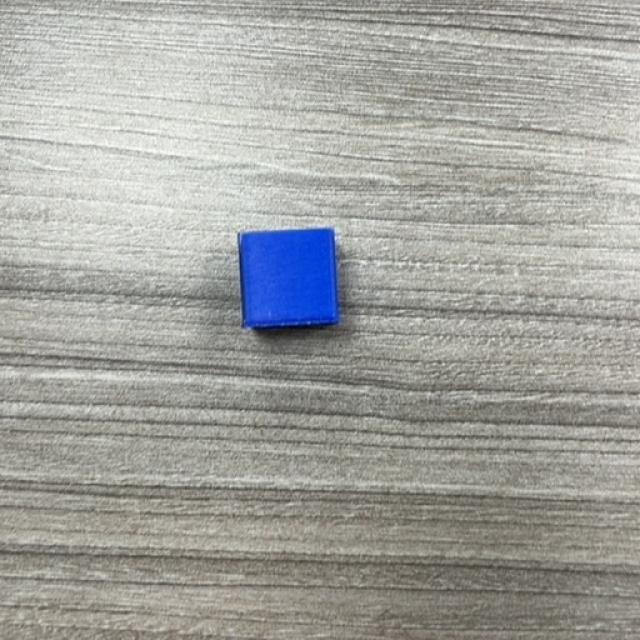Azul: (238, 228, 341, 330)
